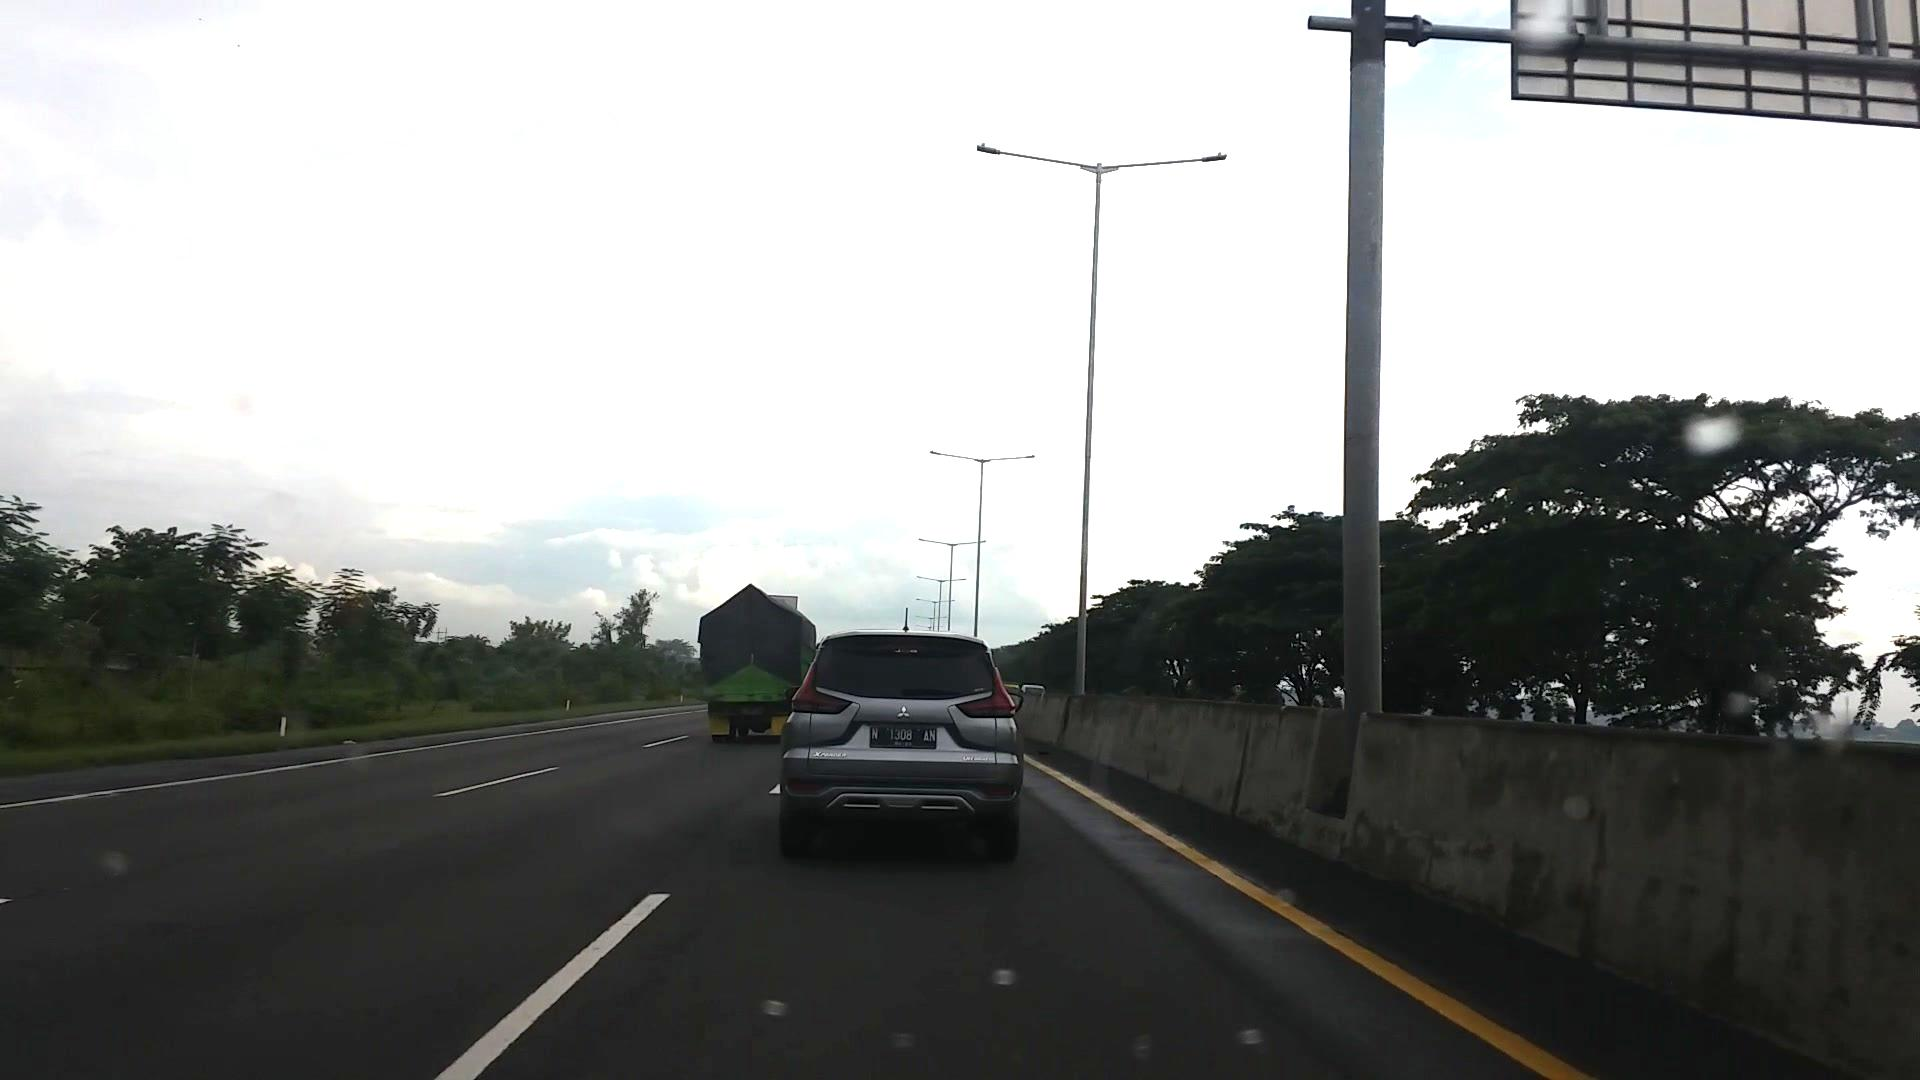plate_positive: (870, 725, 938, 750)
